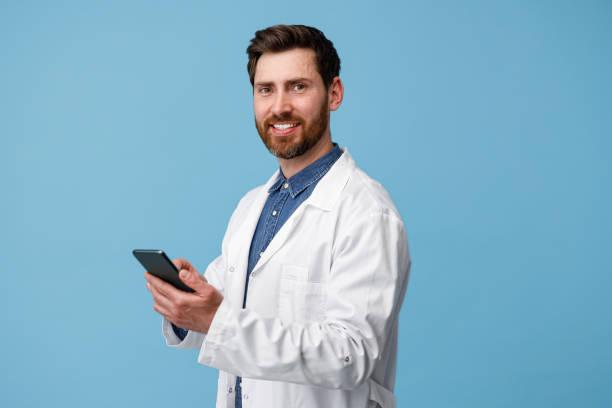Lab_coat: (196, 153, 445, 408)
